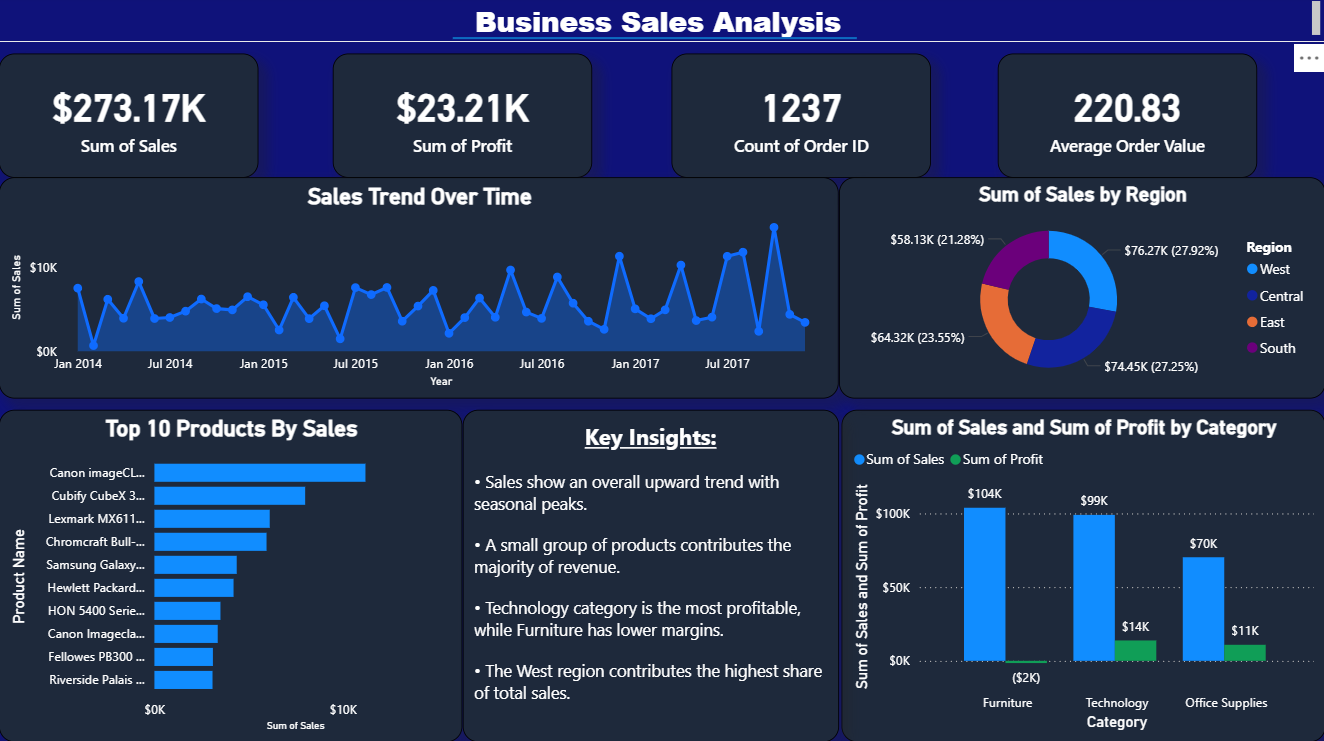

What the dashboard file says about the page in this screenshot:
{"tool":"powerbi","page":{"name":"Page 1","canvas":[1280,720],"ordinal":0},"visuals":[{"type":"card","fields":{"Values":["Sum(Sample - Superstore.Sales)"]},"box":[0,55,250,120],"z":0},{"type":"card","fields":{"Values":["Sum(Sample - Superstore.Profit)"]},"box":[322.5,55,250,120],"z":1000},{"type":"card","fields":{"Values":["CountNonNull(Sample - Superstore.Order ID)"]},"box":[648.8,55,250,120],"z":2000},{"type":"card","fields":{"Values":["Sample - Superstore.Average Order Value"]},"box":[963.8,55,250,120],"z":3000},{"type":"lineChart","title":"Sales Trend Over Time","fields":{"Y":["Sum(Sample - Superstore.Sales)"],"Category":["Sample - Superstore.Order Date.Variation.Date Hierarchy.Year","Sample - Superstore.Order Date.Variation.Date Hierarchy.Quarter","Sample - Superstore.Order Date.Variation.Date Hierarchy.Month","Sample - Superstore.Order Date.Variation.Date Hierarchy.Day"]},"box":[0,174.9,810.7,213.5],"z":4000},{"type":"clusteredBarChart","title":"Top 10 Products By Sales","fields":{"Category":["Sample - Superstore.Product Name"],"Y":["Sum(Sample - Superstore.Sales)"]},"box":[0,399.3,447.6,320.9],"z":5000},{"type":"clusteredColumnChart","fields":{"Category":["Sample - Superstore.Category"],"Y":["Sum(Sample - Superstore.Sales)","Sum(Sample - Superstore.Profit)"]},"box":[813.1,399.3,466.9,320.9],"z":6000},{"type":"donutChart","fields":{"Category":["Sample - Superstore.Region"],"Y":["Sum(Sample - Superstore.Sales)"]},"box":[810.7,174.9,469.3,213.5],"z":7000},{"type":"textbox","box":[0,0,1280,45],"z":8000},{"type":"shape","box":[437.5,0,390,81.2],"z":9000},{"type":"textbox","box":[448,399,363,321],"z":9001}]}

Visuals, with their boxes in screenshot pixels (x1, y1, x2, y2), scaled from the page's 1280x720 canvas onto the 1324x741 screenshot:
card - Sum(Sample - Superstore.Sales): bbox=[0, 57, 259, 180]
card - Sum(Sample - Superstore.Profit): bbox=[334, 57, 592, 180]
card - CountNonNull(Sample - Superstore.Order ID): bbox=[671, 57, 930, 180]
card - Sample - Superstore.Average Order Value: bbox=[997, 57, 1256, 180]
"Sales Trend Over Time" lineChart: bbox=[0, 180, 839, 400]
"Top 10 Products By Sales" clusteredBarChart: bbox=[0, 411, 463, 740]
clusteredColumnChart - Sample - Superstore.Category x Sum(Sample - Superstore.Sales): bbox=[841, 411, 1323, 740]
donutChart - Sample - Superstore.Region x Sum(Sample - Superstore.Sales): bbox=[839, 180, 1323, 400]
textbox: bbox=[0, 0, 1323, 46]
shape: bbox=[453, 0, 856, 84]
textbox: bbox=[463, 411, 839, 740]
